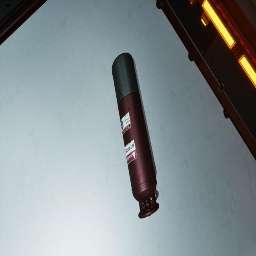NitrogenTank ,: (112, 53, 159, 219)
